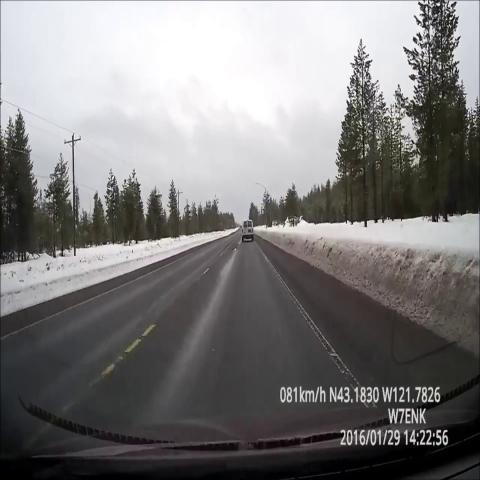pothole: (227, 240, 242, 259)
